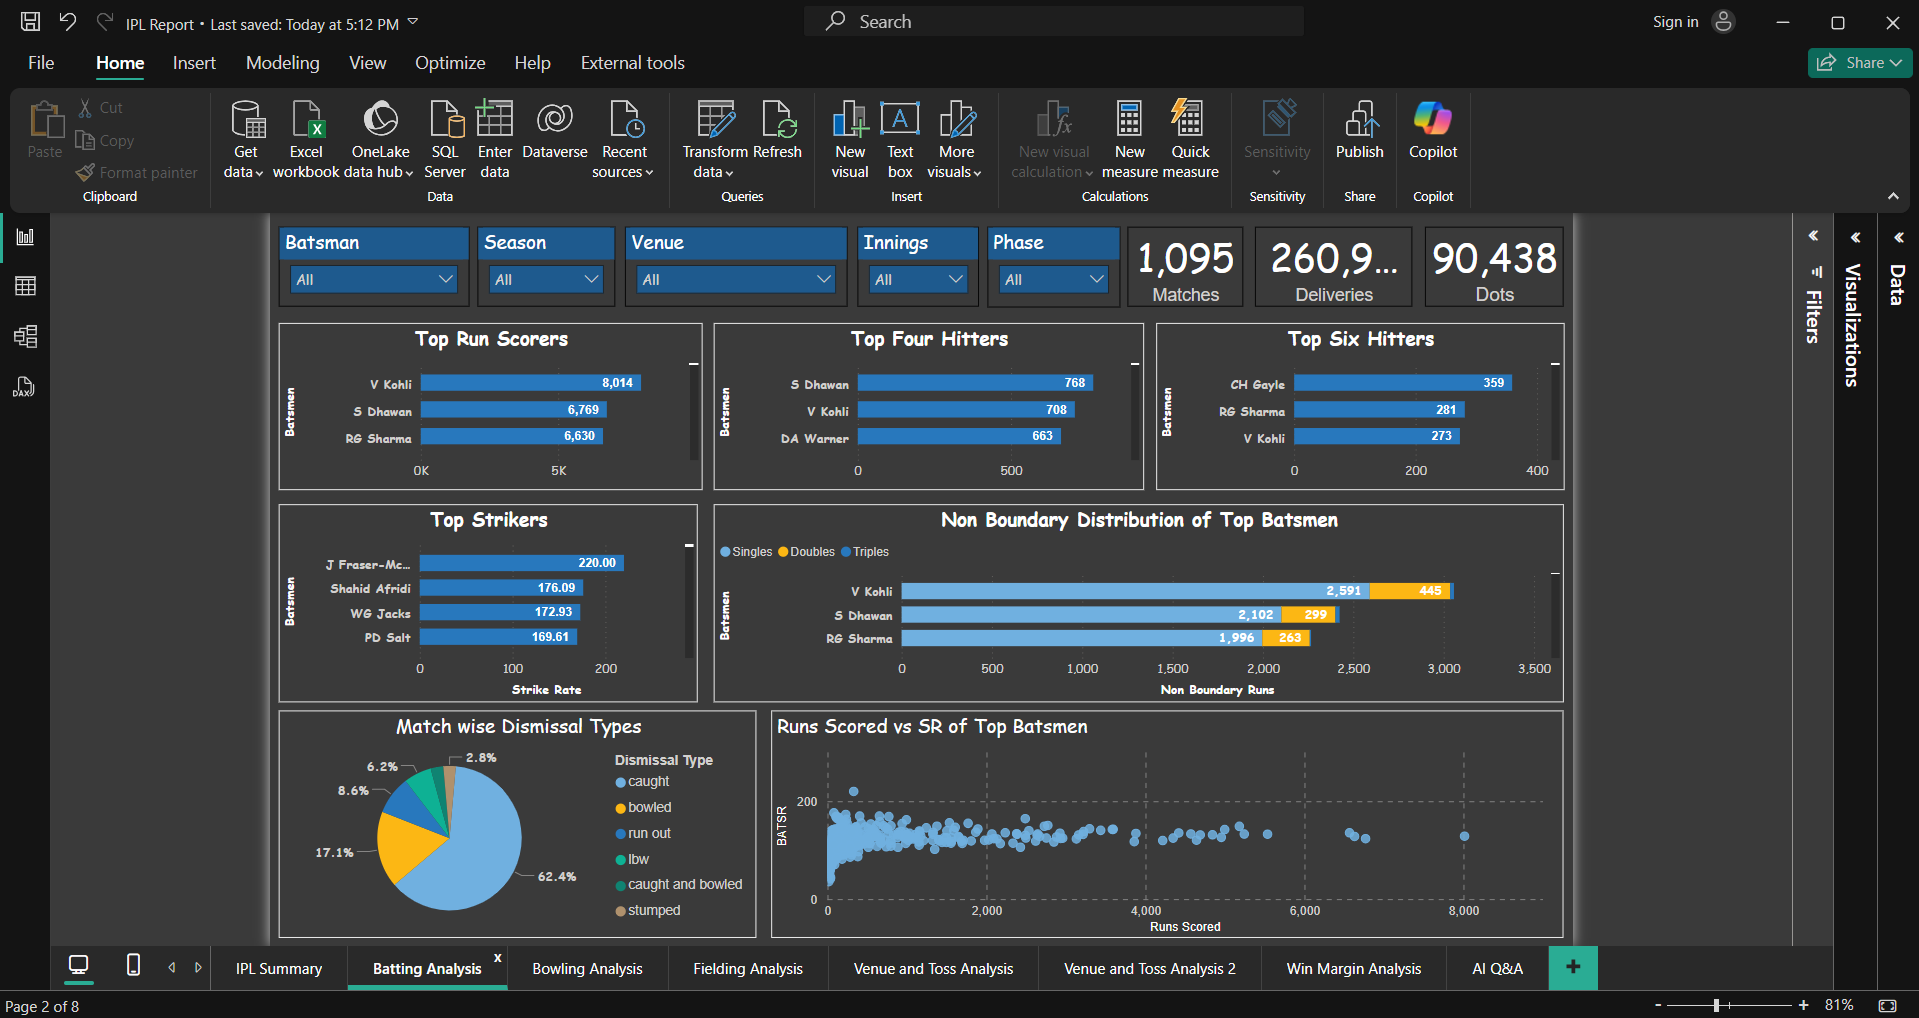

This screenshot's page, from the dashboard's own definition file:
{"tool":"powerbi","page":{"name":"Batting Analysis","canvas":[1280,720],"ordinal":1},"visuals":[{"type":"slicer","title":"Batsman","fields":{"Values":["IPL_Ball_by_Ball.Batter"]},"box":[8.4,13.3,186.9,78.4],"z":0},{"type":"clusteredBarChart","title":"Top Run Scorers","fields":{"Y":["IPL_Ball_by_Ball.BatsmanRun"],"Category":["IPL_Ball_by_Ball.Batter"]},"box":[8.4,108.5,416.1,164],"z":1000},{"type":"clusteredBarChart","title":"Top Four Hitters","fields":{"Category":["IPL_Ball_by_Ball.Batter"],"Y":["IPL_Ball_by_Ball.Fours"]},"box":[435.4,108.5,422.1,164],"z":2000},{"type":"clusteredBarChart","title":"Top Six Hitters","fields":{"Category":["IPL_Ball_by_Ball.Batter"],"Y":["IPL_Ball_by_Ball.Sixes"]},"box":[869.5,108.5,400.4,164],"z":3000},{"type":"clusteredBarChart","title":"Top Strikers","fields":{"Category":["IPL_Ball_by_Ball.Batter"],"Y":["IPL_Ball_by_Ball.SR"]},"box":[8.4,285.8,411.3,194.2],"z":4000},{"type":"barChart","title":"Non Boundary Distribution of Top Batsmen","fields":{"Category":["IPL_Ball_by_Ball.Batter"],"Y":["IPL_Ball_by_Ball.Singles","IPL_Ball_by_Ball.Doubles","IPL_Ball_by_Ball.Triples"]},"box":[435.4,285.8,834.6,194.2],"z":5000},{"type":"slicer","title":"Season","fields":{"Values":["IPL_Matches.Season"]},"box":[203.8,13.3,135.1,78.4],"z":6000},{"type":"slicer","title":"Venue","fields":{"Values":["IPL_Matches.Venue"]},"box":[348.5,13.3,218.3,78.4],"z":7000},{"type":"slicer","title":"Innings","fields":{"Values":["IPL_Ball_by_Ball.Innings"]},"box":[576.5,13.3,119.4,78.4],"z":8000},{"type":"scatterChart","title":"Runs Scored vs SR of Top Batsmen","fields":{"Y":["IPL_Ball_by_Ball.SR"],"X":["IPL_Ball_by_Ball.BatsmanRun"],"Category":["IPL_Ball_by_Ball.Batter"]},"box":[492.1,488.4,777.9,223.1],"z":9000},{"type":"pieChart","title":"Match wise Dismissal Types","fields":{"Category":["IPL_Ball_by_Ball.Kind"],"Y":["IPL_Ball_by_Ball.ID"]},"box":[8.4,488.4,469.1,223.1],"z":10000},{"type":"card","fields":{"Values":["IPL_Ball_by_Ball.ID"]},"box":[841.8,13.3,113.4,78.4],"z":11000},{"type":"card","fields":{"Values":["IPL_Ball_by_Ball.BallNumber"]},"box":[960.7,13.5,166.9,78.5],"z":12000},{"type":"card","fields":{"Values":["IPL_Ball_by_Ball.Dots"]},"box":[1133.7,13.3,136.3,78.4],"z":13000},{"type":"slicer","title":"Phase","fields":{"Values":["IPL_Ball_by_Ball.Phase"]},"box":[704.3,13.3,130.3,79.6],"z":14000}]}

Visuals, with their boxes on the page's 1280x720 design canvas (x1, y1, x2, y2). These are canvas units, not pixel positions in the 1919x1018 screenshot, which may show the page scaled, cropped or inside an application window:
"Batsman" slicer: 8, 13, 195, 92
"Top Run Scorers" clusteredBarChart: 8, 108, 424, 272
"Top Four Hitters" clusteredBarChart: 435, 108, 858, 272
"Top Six Hitters" clusteredBarChart: 870, 108, 1270, 272
"Top Strikers" clusteredBarChart: 8, 286, 420, 480
"Non Boundary Distribution of Top Batsmen" barChart: 435, 286, 1270, 480
"Season" slicer: 204, 13, 339, 92
"Venue" slicer: 348, 13, 567, 92
"Innings" slicer: 576, 13, 696, 92
"Runs Scored vs SR of Top Batsmen" scatterChart: 492, 488, 1270, 712
"Match wise Dismissal Types" pieChart: 8, 488, 478, 712
card - IPL_Ball_by_Ball.ID: 842, 13, 955, 92
card - IPL_Ball_by_Ball.BallNumber: 961, 14, 1128, 92
card - IPL_Ball_by_Ball.Dots: 1134, 13, 1270, 92
"Phase" slicer: 704, 13, 835, 93
